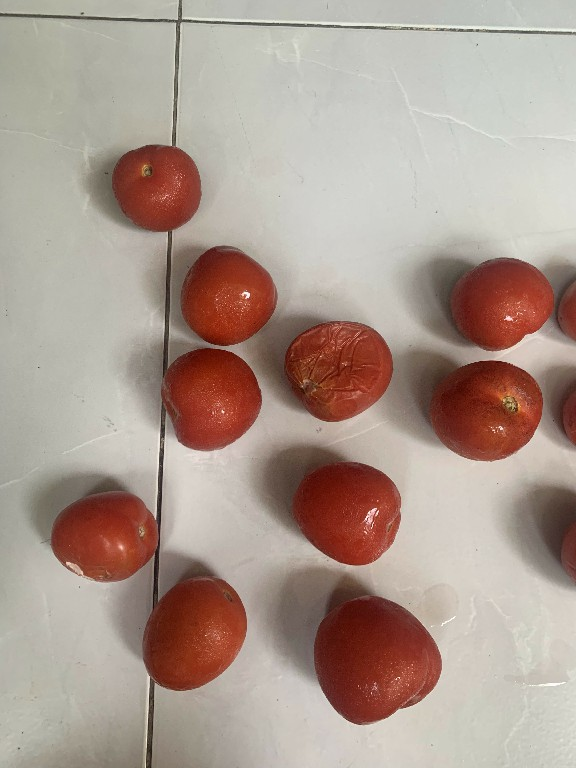NG: (424, 353, 547, 469), (273, 315, 398, 425), (38, 484, 161, 588)
OK: (309, 587, 449, 739), (135, 568, 252, 700), (285, 452, 408, 574), (155, 342, 265, 459), (446, 246, 557, 358), (171, 237, 280, 346), (100, 140, 207, 237)
